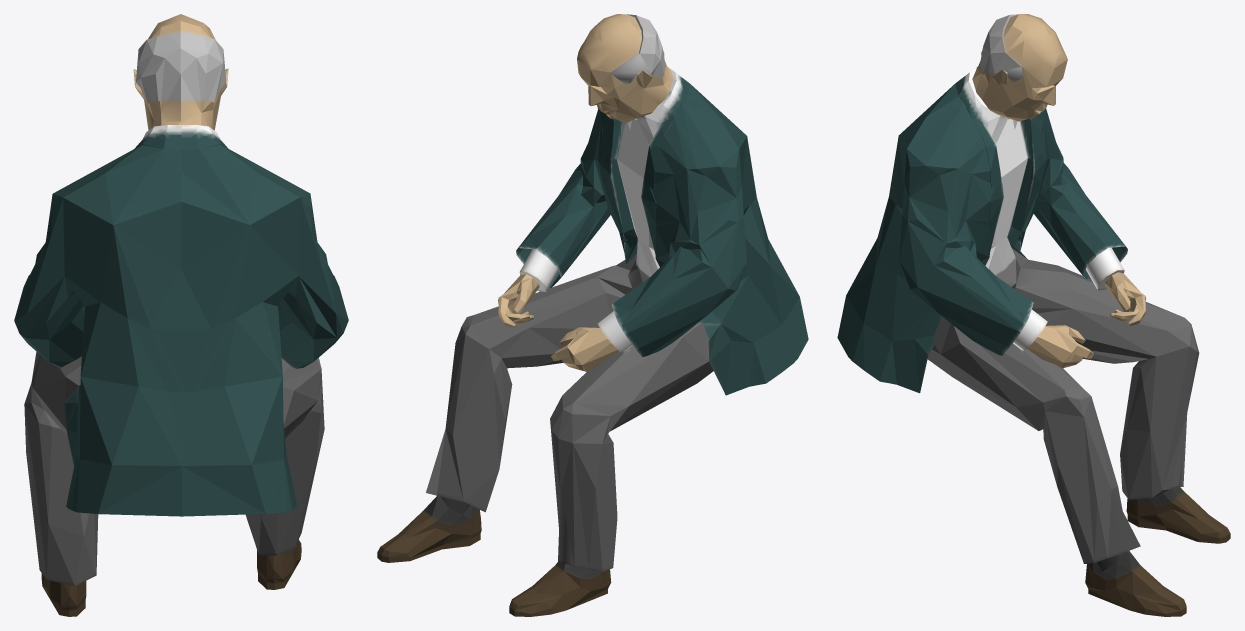
File: Person Seated 2.fbx
The picture shows the model from 3 angles, left to right: view 1: azimuth 30°, elevation 25°; view 2: azimuth 150°, elevation 25°; view 3: azimuth 270°, elevation 25°; orthographic projection. The views are drawn at different scales.
Parts seen in each view (by area): view 1: Person_Two_Seated; view 2: Person_Two_Seated; view 3: Person_Two_Seated.
Boxes of the visible parts, <box> form: Person_Two_Seated: <box>14,14,348,616</box>; Person_Two_Seated: <box>377,14,808,616</box>; Person_Two_Seated: <box>837,14,1230,616</box>.
Size of the model in its own units: 0.8013 by 1.35 by 0.9236.
